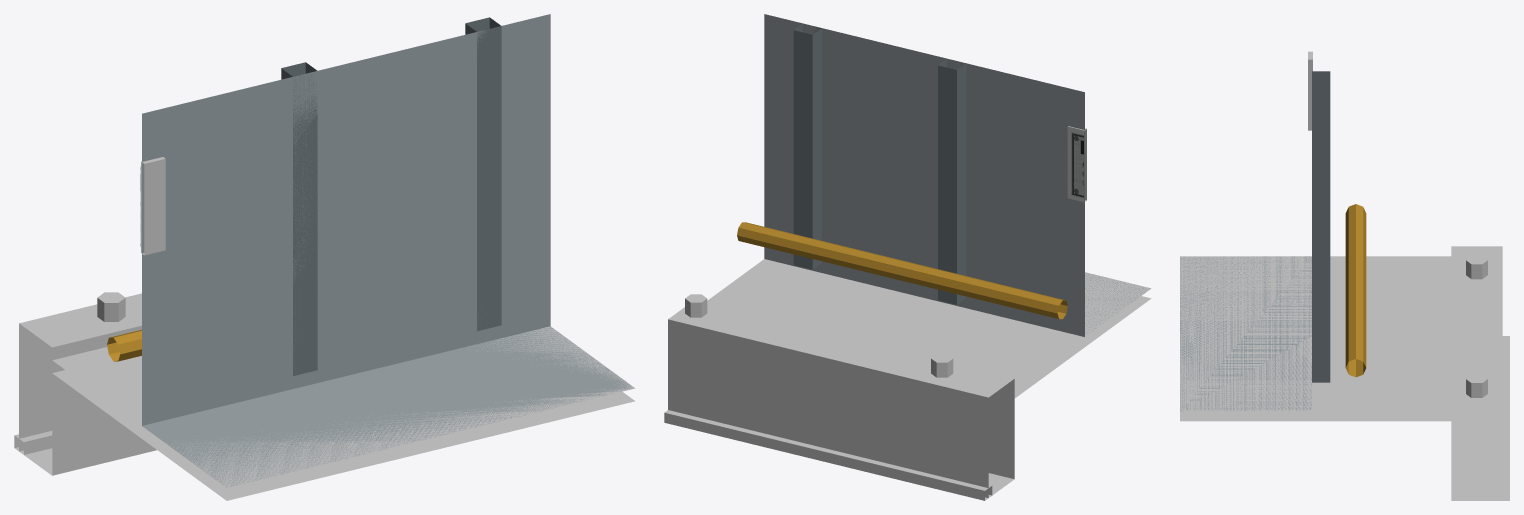
Rendered from cell_7.obj.
3 views of the same model, side by side, from view 1: azimuth 30°, elevation 25°; view 2: azimuth 150°, elevation 25°; view 3: azimuth 270°, elevation 25° (orthographic). The views are drawn at different scales.
Size of the model in its own units: 1 by 1 by 0.9.
